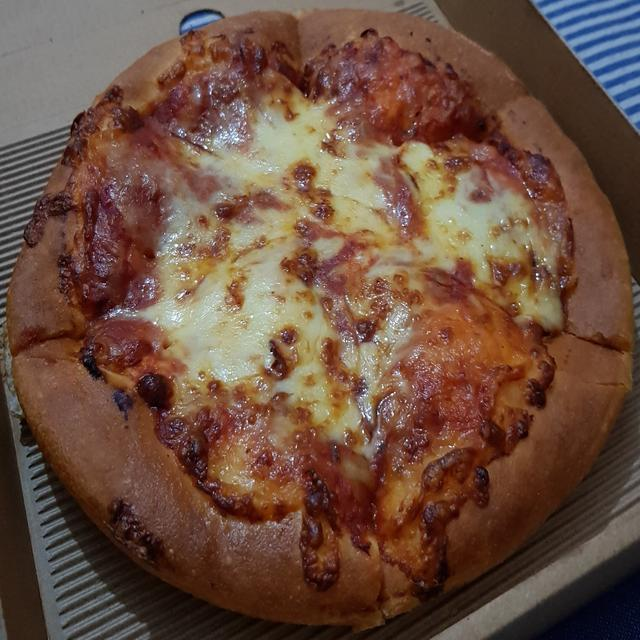Pizza - Cheese Lovers: (6, 7, 634, 629)
